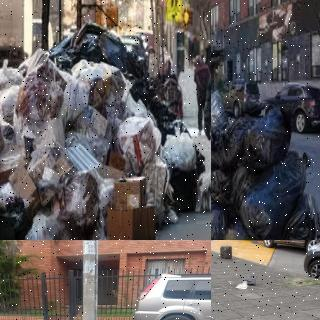Garbage: (240, 151, 308, 240), (239, 103, 292, 172), (0, 192, 33, 240), (211, 191, 226, 240), (244, 276, 258, 285)
